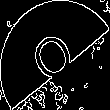O_SE: (27, 22, 83, 88)
